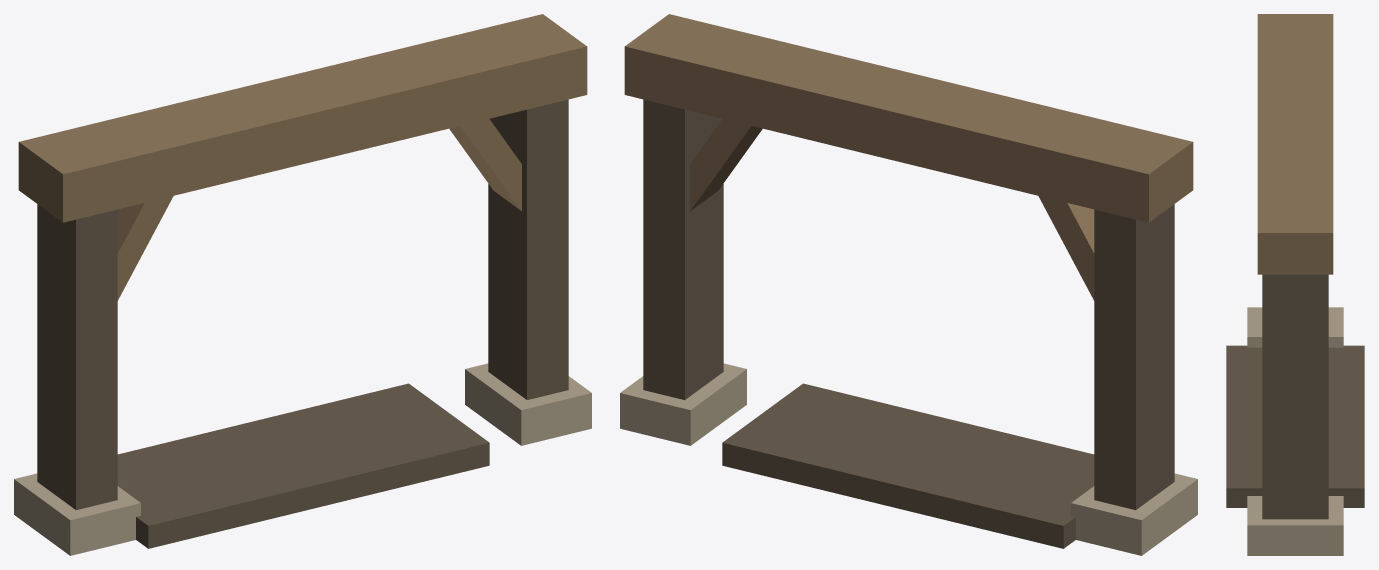
The model's file is Decor_MineSupport.fbx.
3 views of the same model, side by side, from view 1: azimuth 30°, elevation 25°; view 2: azimuth 150°, elevation 25°; view 3: azimuth 270°, elevation 25° (orthographic). The views are drawn at different scales.
Visible parts, largest first — view 1: Decor_MineSupport; view 2: Decor_MineSupport; view 3: Decor_MineSupport.
Boxes of the visible parts, x1,y1,x2,y2 form: Decor_MineSupport: (14, 14, 591, 555); Decor_MineSupport: (620, 14, 1197, 555); Decor_MineSupport: (1226, 14, 1364, 555).
Bounding box in the file's own units: 4.3 × 2.96 × 1.15.
